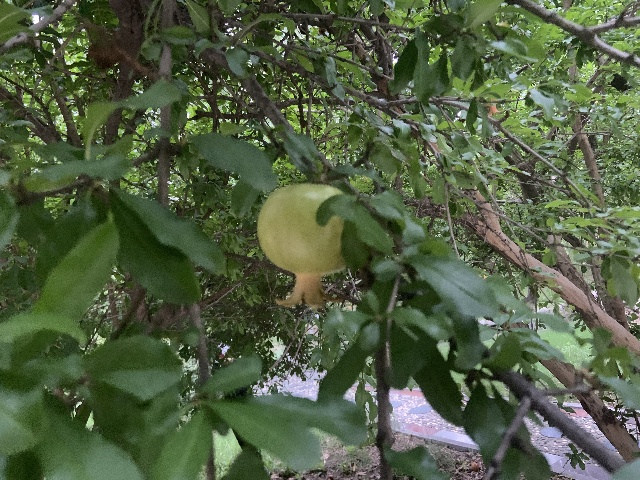mid-growth: (256, 182, 347, 309)
